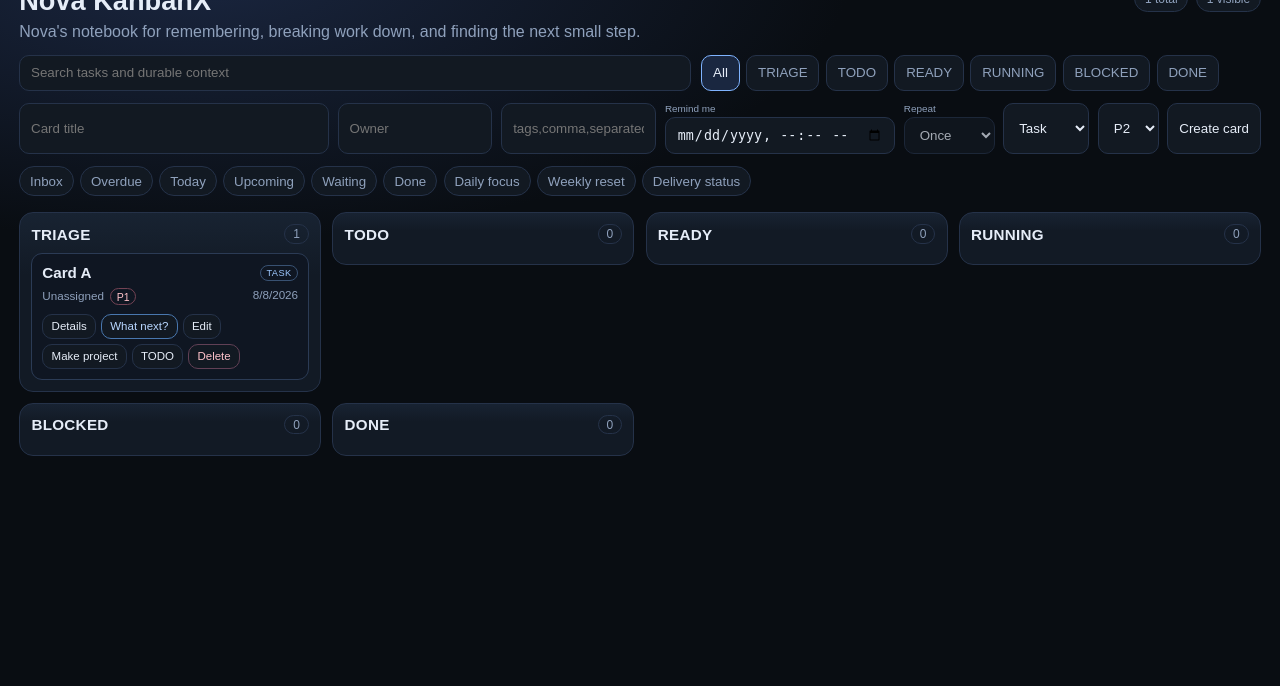
Scenario: App optimistic behavior › edits durable fields with a revision guard
Check: the heading "Card A" is shown, box [42, 264, 92, 281]
Click the button "Edit" at (202, 326), box [183, 314, 221, 339]
(page scrolled)
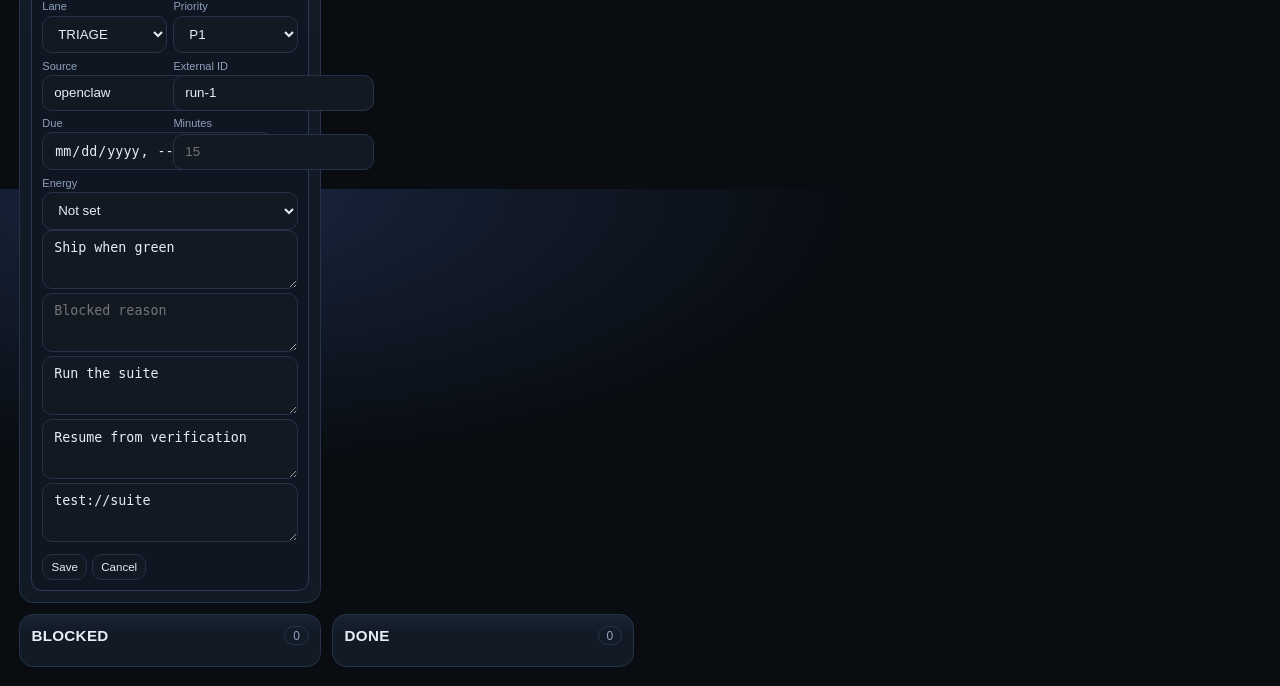
Replace the text in the 2nd text box with placeholder "Next action" with "Deploy the verified build" at (170, 386), box [42, 356, 298, 415]
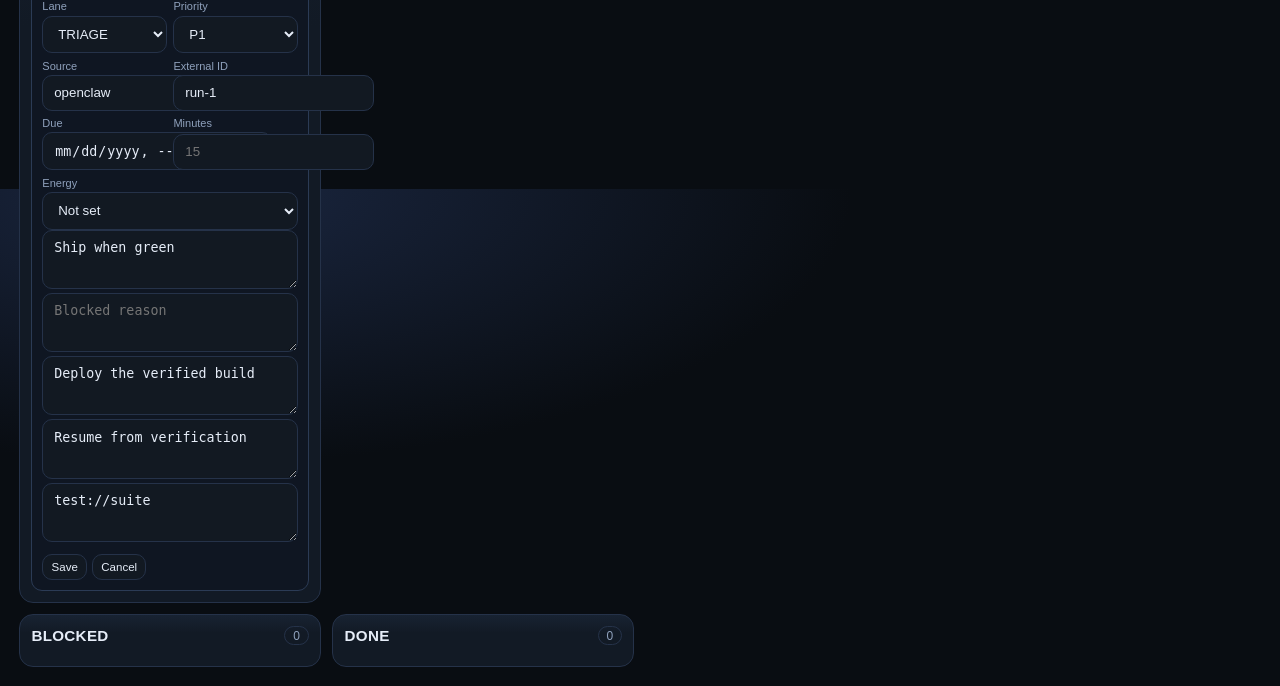
Select "P0" in the dropdown labelled "Priority" at (236, 34), box [173, 16, 298, 53]
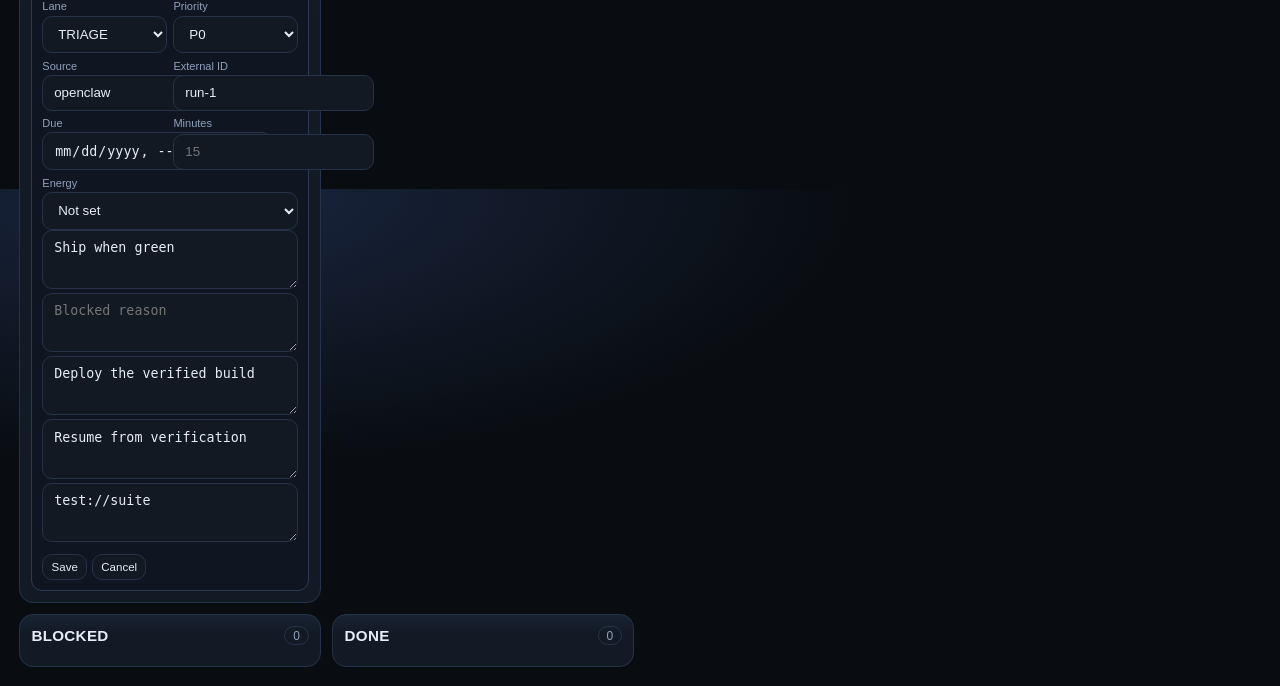
Click the button "Save" at (65, 567), box [42, 554, 87, 580]
(page scrolled)
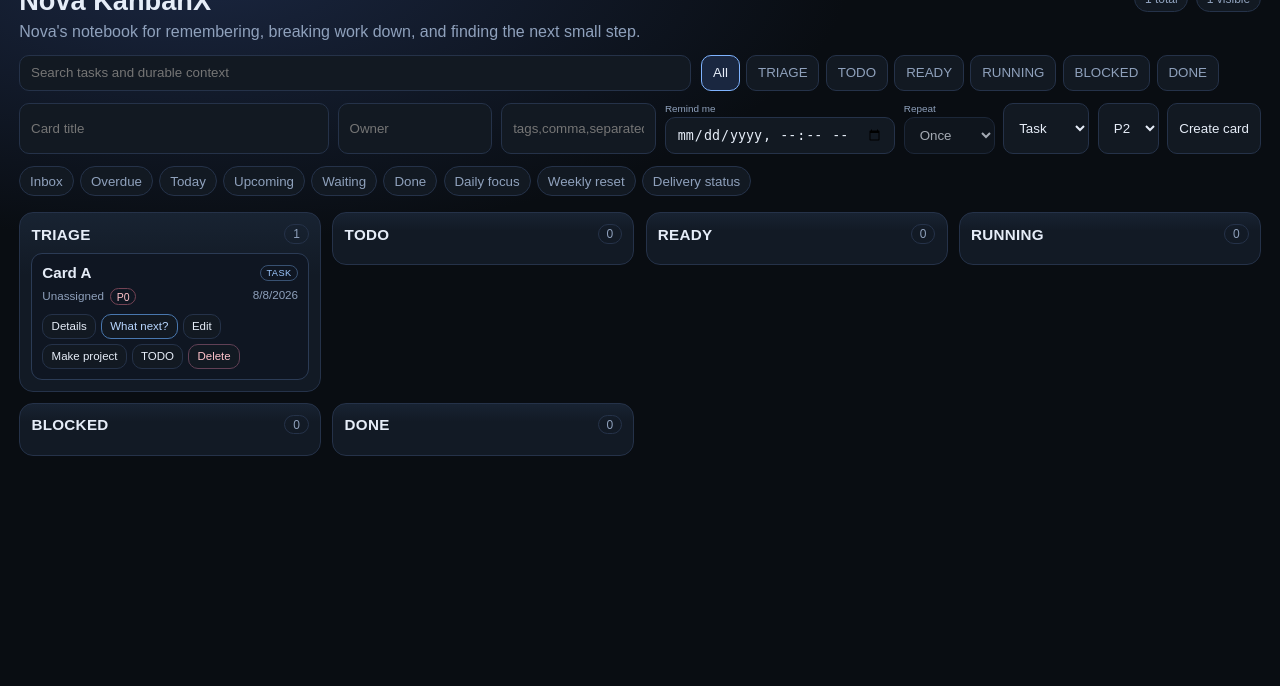
Check: the text "P0" is shown, box [110, 288, 136, 305]
